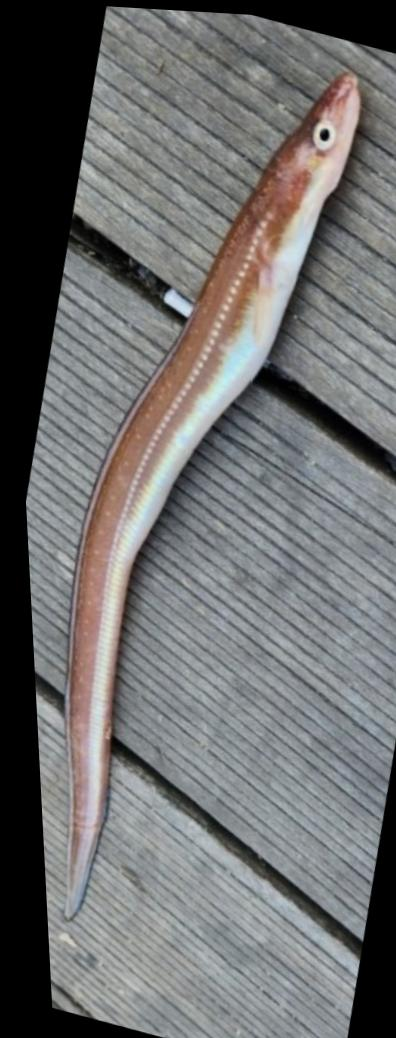fish: (55, 69, 359, 917)
